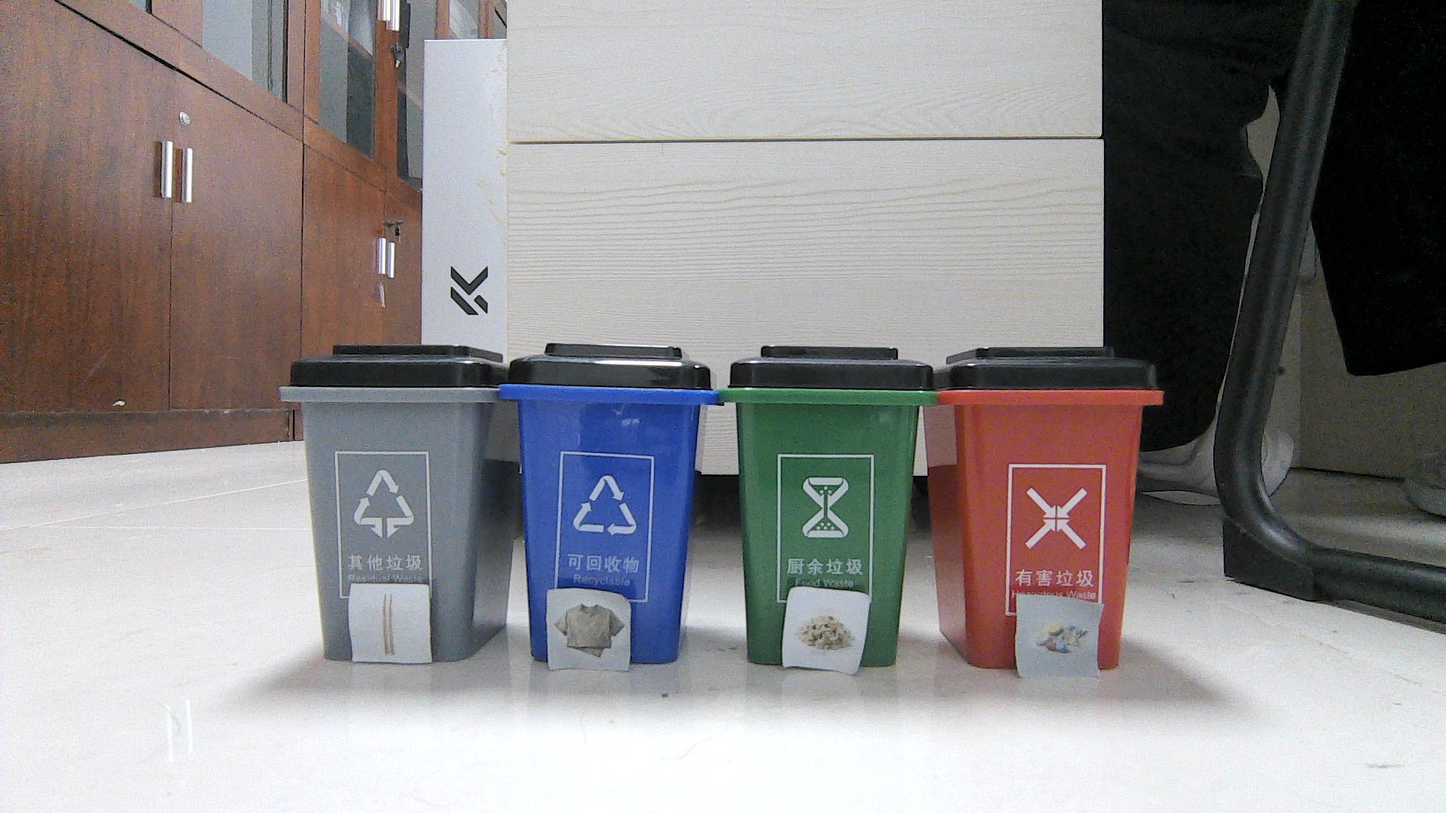food_trash: (790, 593, 864, 666)
hazardous_trash: (1021, 601, 1095, 673)
other_trash: (355, 587, 423, 659)
recyclable_trash: (551, 591, 626, 668)
